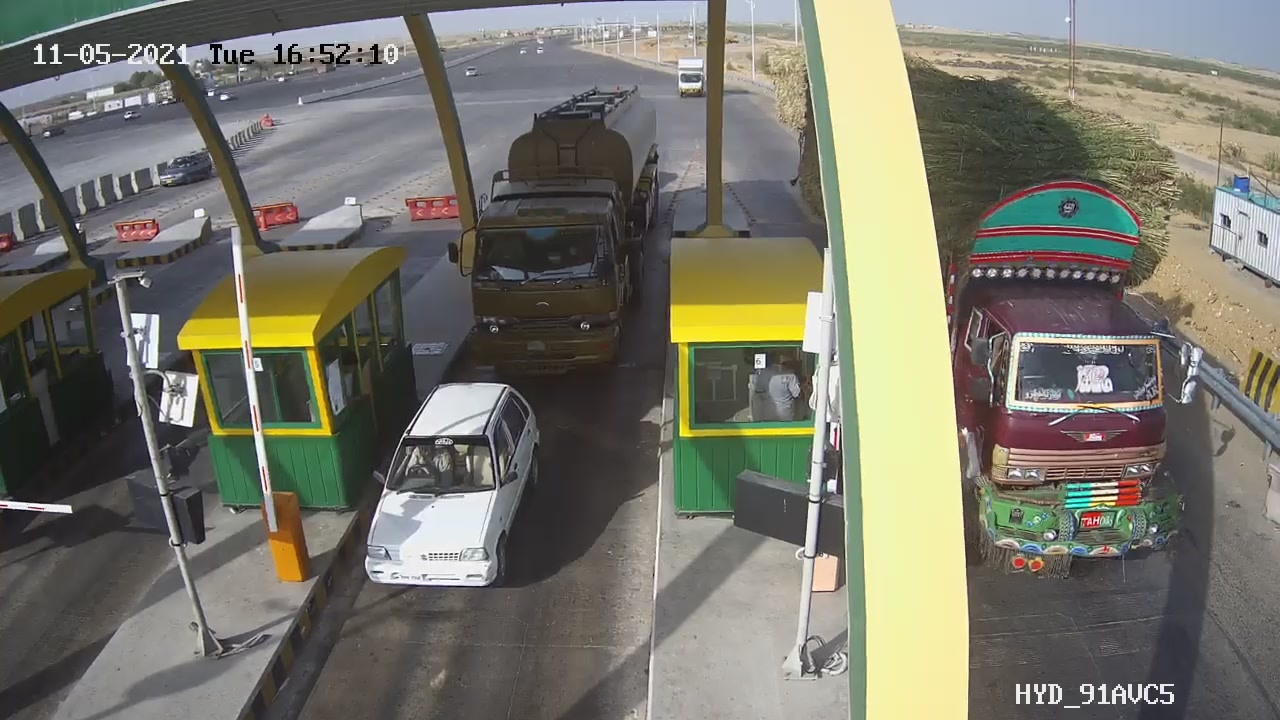F1: (345, 375, 563, 605)
F6: (452, 67, 668, 394)
